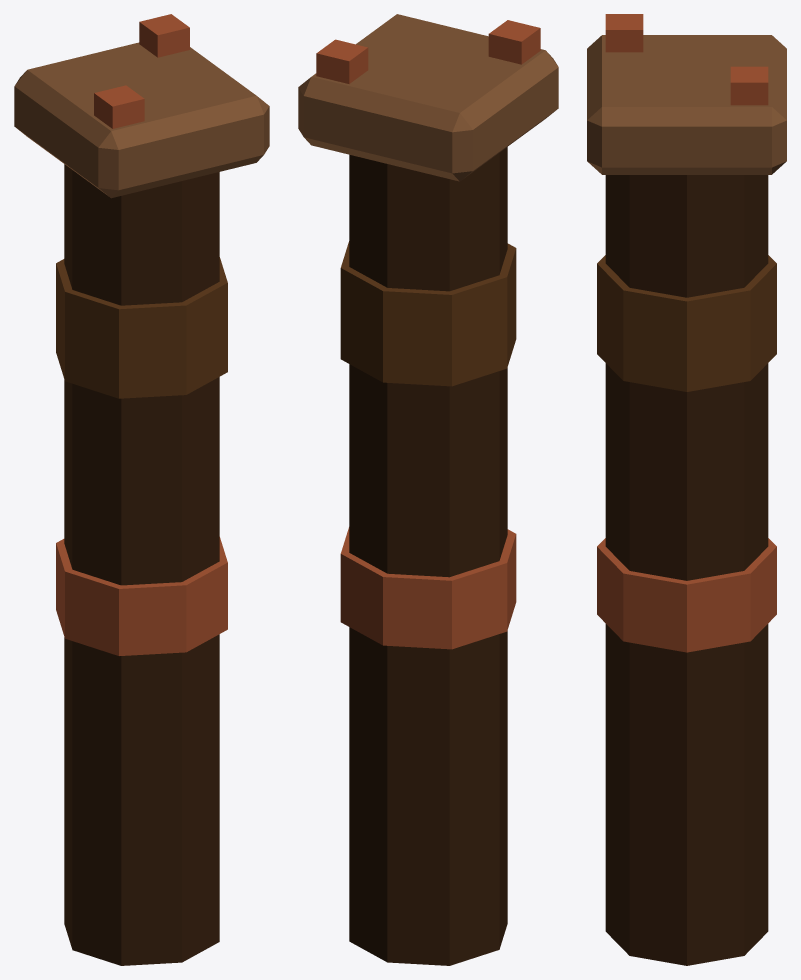
Rendered from piling.glb.
The picture shows the model from 3 angles, left to right: view 1: azimuth 30°, elevation 25°; view 2: azimuth 150°, elevation 25°; view 3: azimuth 270°, elevation 25°; orthographic projection. The views are drawn at different scales.
Parts seen in each view (by area): view 1: Piling, Cap, Wrap, Wrap2, BoltA, BoltB; view 2: Piling, Cap, Wrap, Wrap2, BoltB, BoltA; view 3: Piling, Cap, Wrap, Wrap2, BoltA, BoltB.
Boxes of the visible parts, box(x1,y1,x2,y2) form: Piling: box(64, 164, 219, 965); Cap: box(14, 42, 269, 198); Wrap: box(56, 257, 227, 398); Wrap2: box(56, 537, 227, 655); BoltA: box(139, 14, 189, 57); BoltB: box(94, 85, 144, 128); Piling: box(349, 147, 507, 965); Cap: box(298, 14, 558, 181); Wrap: box(340, 241, 516, 386); Wrap2: box(340, 527, 516, 649); BoltB: box(488, 20, 540, 64); BoltA: box(316, 39, 368, 83); Piling: box(605, 175, 768, 965); Cap: box(587, 35, 786, 174); Wrap: box(597, 255, 776, 391); Wrap2: box(597, 538, 776, 652); BoltA: box(730, 66, 768, 105); BoltB: box(605, 14, 643, 52).
Size of the model in its own units: 0.16 by 0.78 by 0.16.
